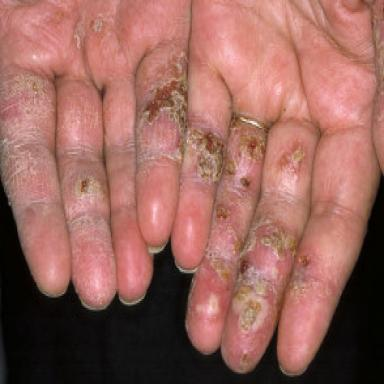Impetigo: (138, 43, 339, 371), (0, 67, 116, 308), (50, 4, 113, 52)
